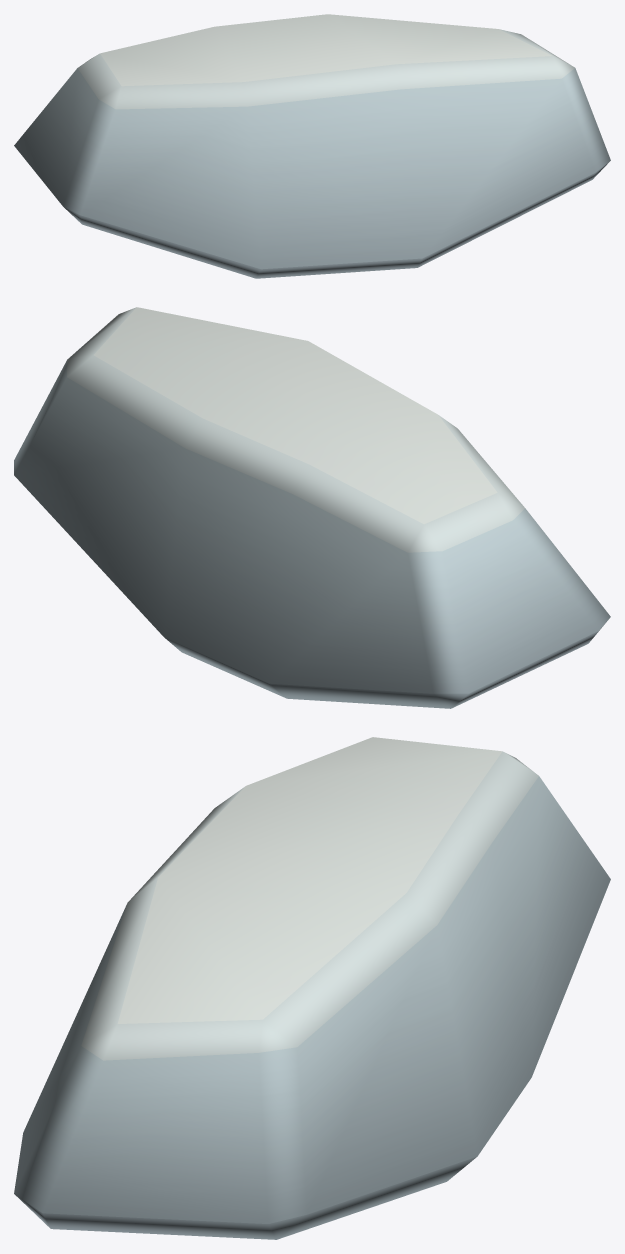
Rendered from rock_snow_09.fbx.
The picture shows the model from 3 angles, top to bottom: view 1: azimuth 30°, elevation 25°; view 2: azimuth 150°, elevation 25°; view 3: azimuth 270°, elevation 25°; orthographic projection. The views are drawn at different scales.
Visible parts, largest first — view 1: rock_snow_09; view 2: rock_snow_09; view 3: rock_snow_09.
Part boxes in pixels (x1=…): rock_snow_09: x1=14, y1=14, x2=610, y2=278; rock_snow_09: x1=14, y1=307, x2=610, y2=708; rock_snow_09: x1=14, y1=737, x2=610, y2=1239.
Size of the model in its own units: 158 by 57.13 by 105.
Materials: 1 (1 with a texture image).
